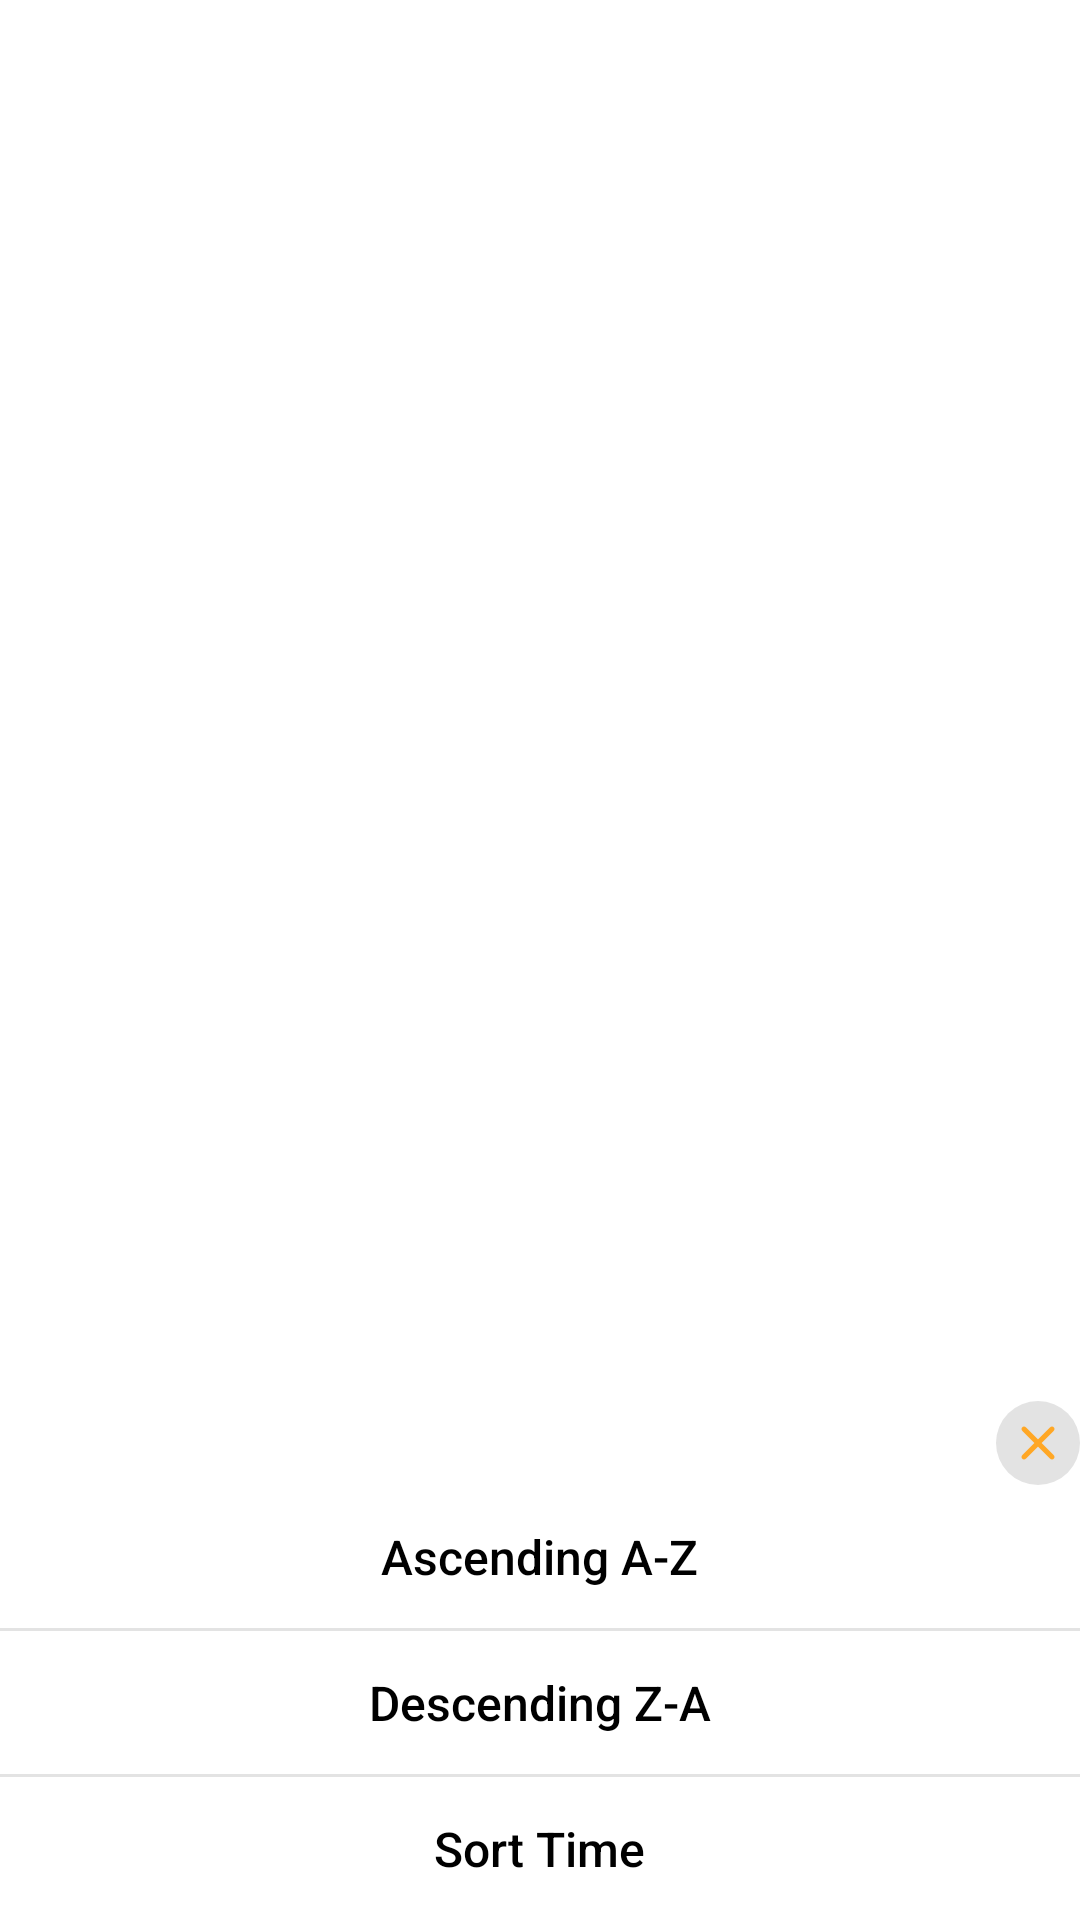

Icon click points for this 1080×1920 phone screenshot, format (x,y):
close: (1038,1443)
